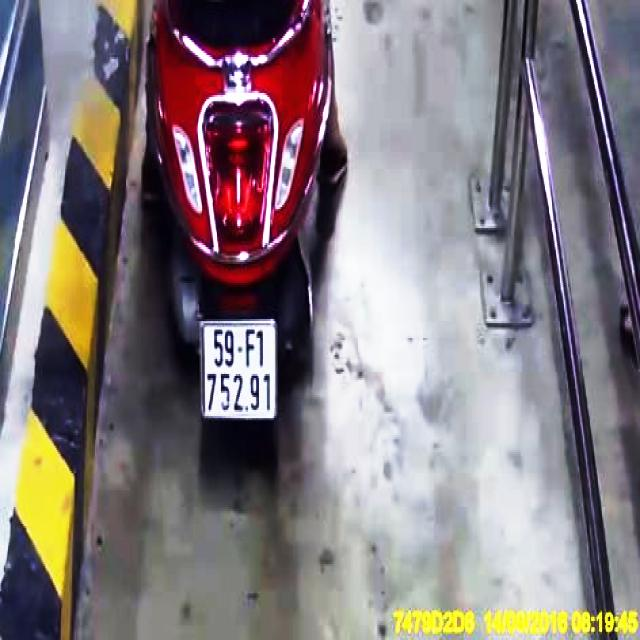license_plate: (204, 320, 276, 421)
